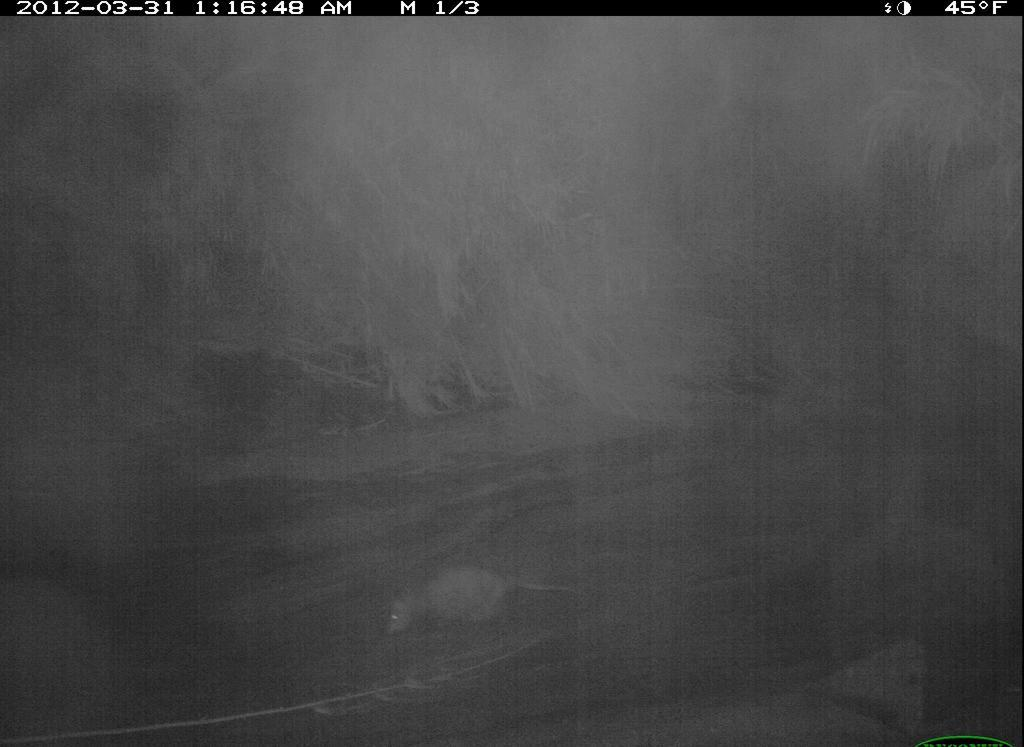opossum: (354, 557, 601, 646)
